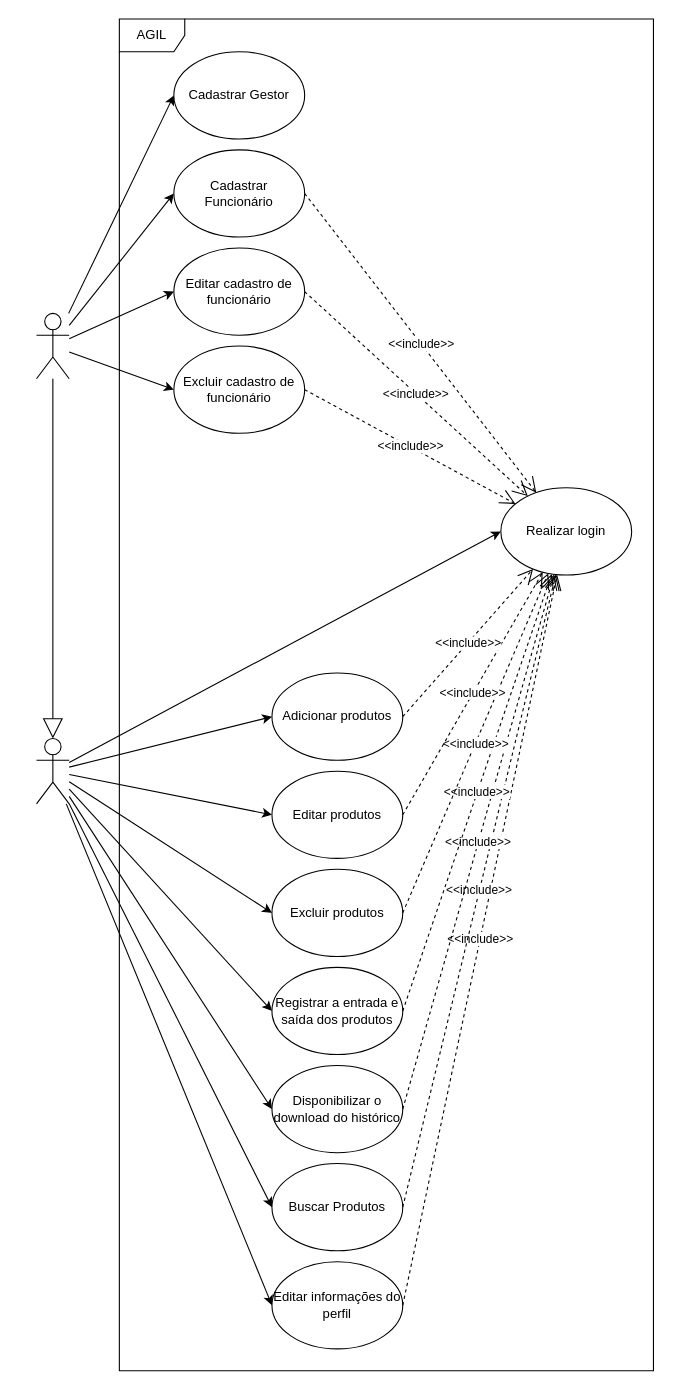
The diagram is 673 pixels wide and 1390 high, and some of its shapes have lost their labels. The shapes that lost their labels are listed below. From the top down, each one's box as (x1, y1, x2, y2) in pixels, then its label:
(35, 312, 69, 379): Gestor
(35, 737, 69, 804): Funcionário
